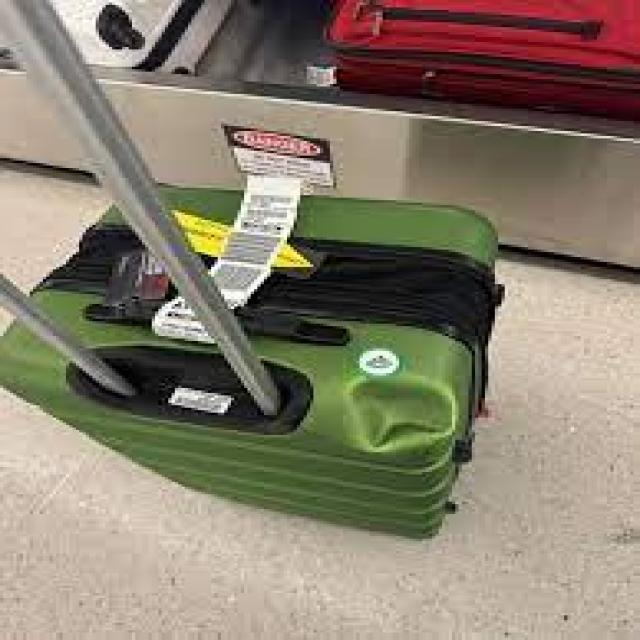Damage-bag: (347, 374, 457, 457)
